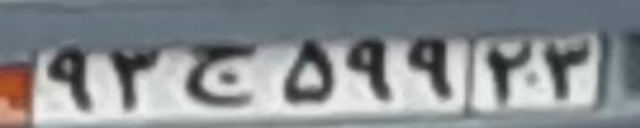2: (483, 40, 534, 103)
3: (106, 46, 160, 111), (541, 37, 592, 103)
5: (279, 39, 333, 102)
9: (40, 43, 92, 112), (340, 37, 393, 101), (405, 36, 455, 100)
jim: (181, 43, 258, 104)
